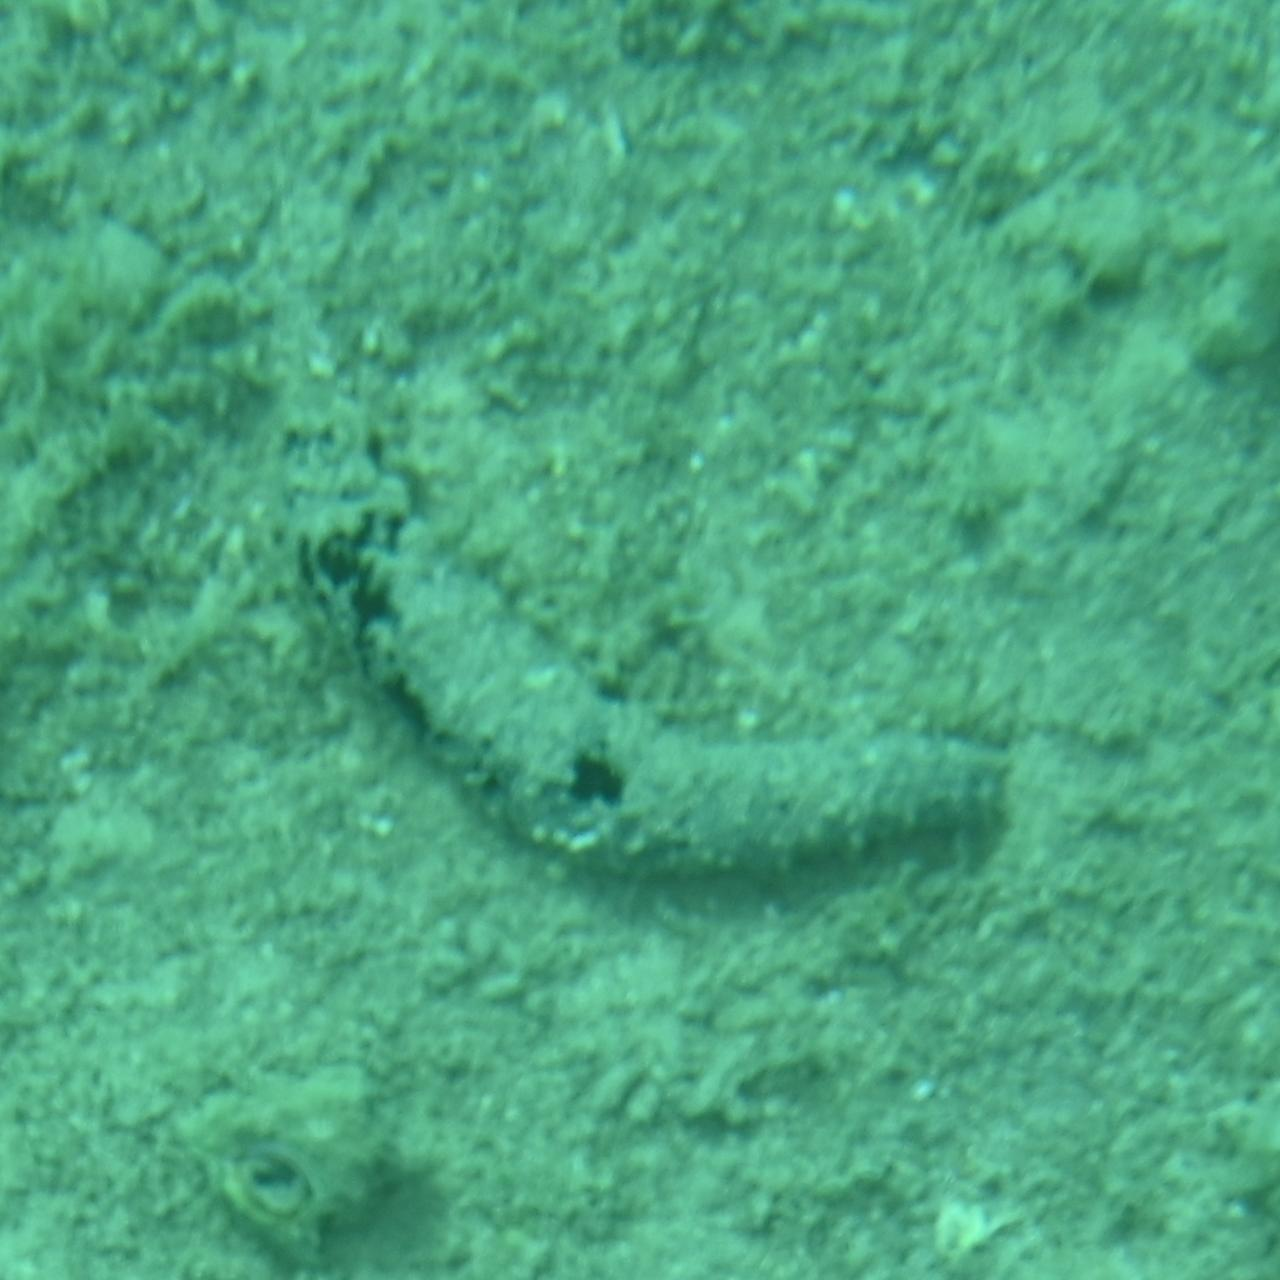Holothuria tubulosa: (264, 400, 1016, 880)
